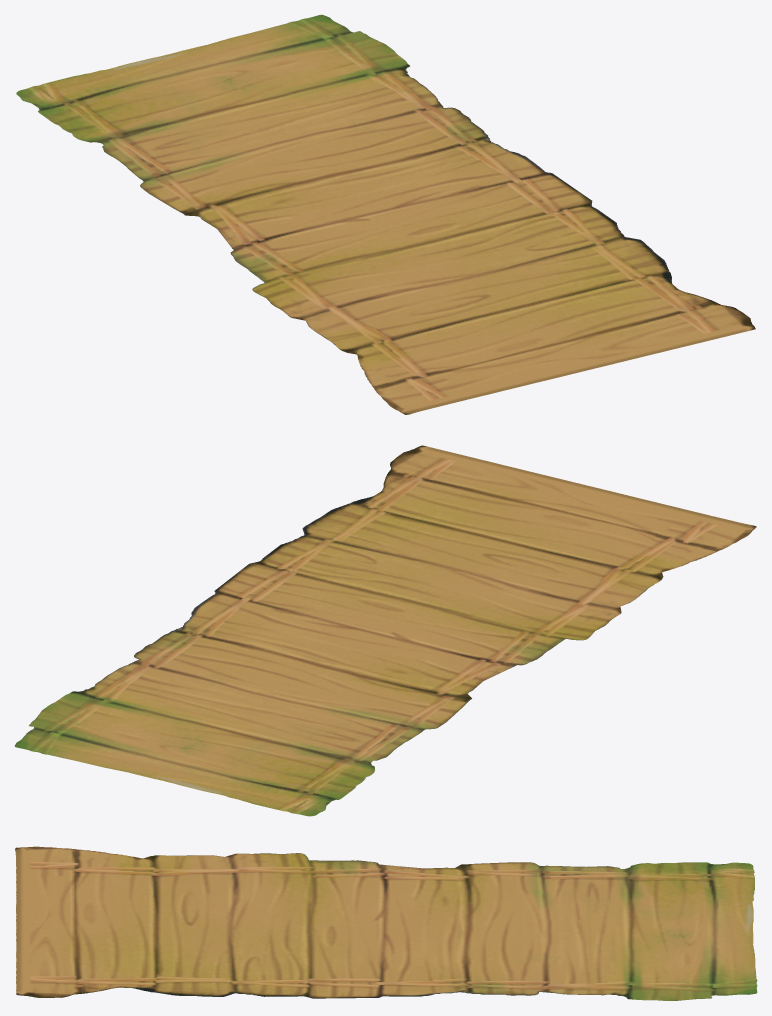
File: floor_l03_00_down_model.fbx
The picture shows the model from 3 angles, top to bottom: view 1: azimuth 30°, elevation 25°; view 2: azimuth 150°, elevation 25°; view 3: azimuth 270°, elevation 25°; orthographic projection. The views are drawn at different scales.
Visible parts, largest first — view 1: location_01_forest_back_02; view 2: location_01_forest_back_02; view 3: location_01_forest_back_02.
Part boxes in pixels (<box>): location_01_forest_back_02: <box>16,14,755,414</box>; location_01_forest_back_02: <box>14,445,756,816</box>; location_01_forest_back_02: <box>15,846,757,1000</box>.
Size of the model in its own units: 197 by 0 by 399.
1 material, 1 textured.
